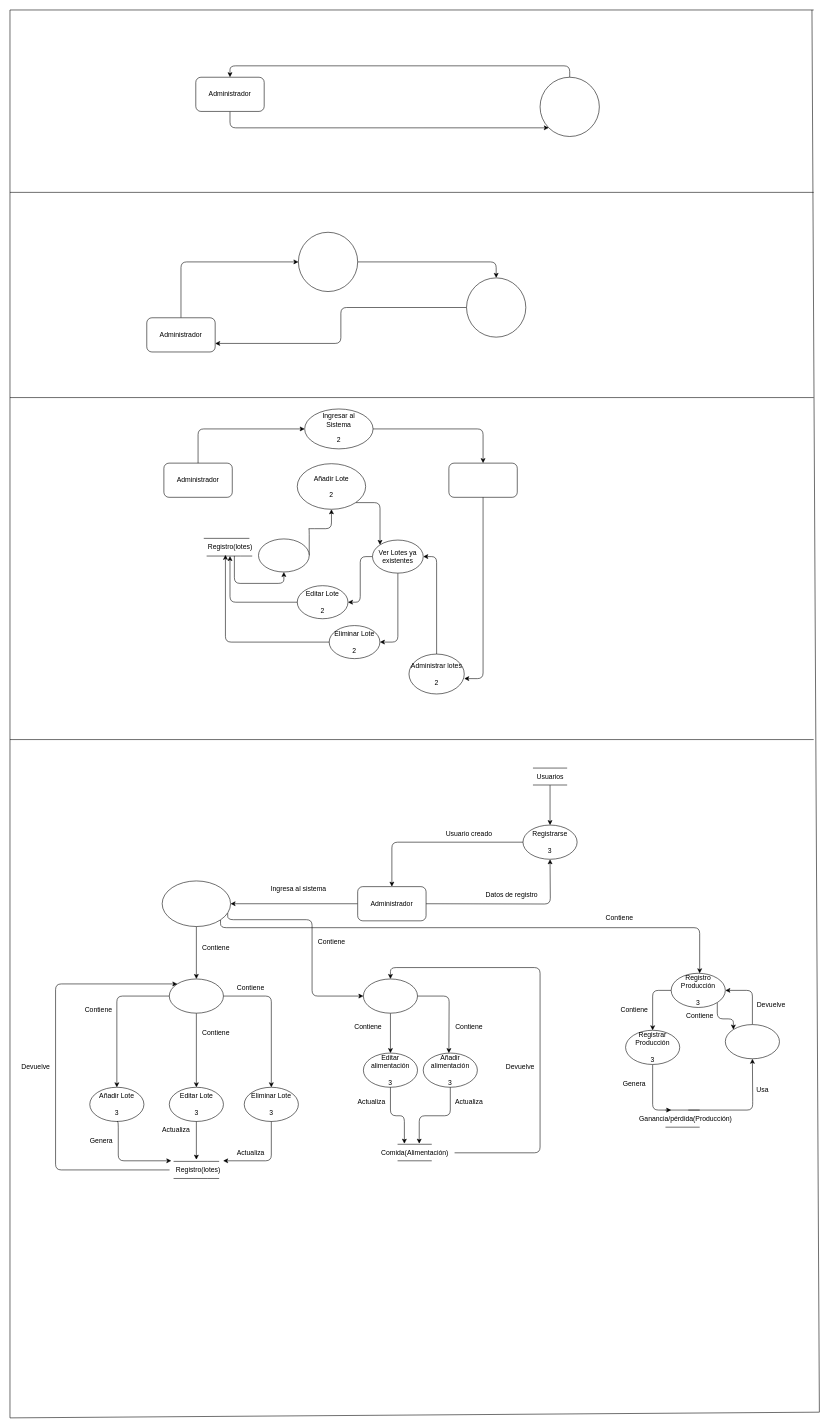
Some shapes in this 830 by 1428 pixel diagram are drawn without their labels. The centre of each missing label's shape, as x and y in pixels:
"Historial de Producción 3" goes at (x=752, y=1041).
"Lotes de aves" goes at (x=482, y=480).
"Registro de alimentación 3" goes at (x=390, y=995).
"Registro(lotes) 2" goes at (x=283, y=555).
"Registro/Inicio de sesión 1" goes at (x=328, y=262).
"Sistema de Gestion de Aves 1" goes at (x=496, y=307).
"Sistema de Gestión 3" goes at (x=196, y=903).
"Sistema de Gestión de Aves 0" goes at (x=569, y=107).
"Ver Lotes 3" goes at (x=196, y=995).
